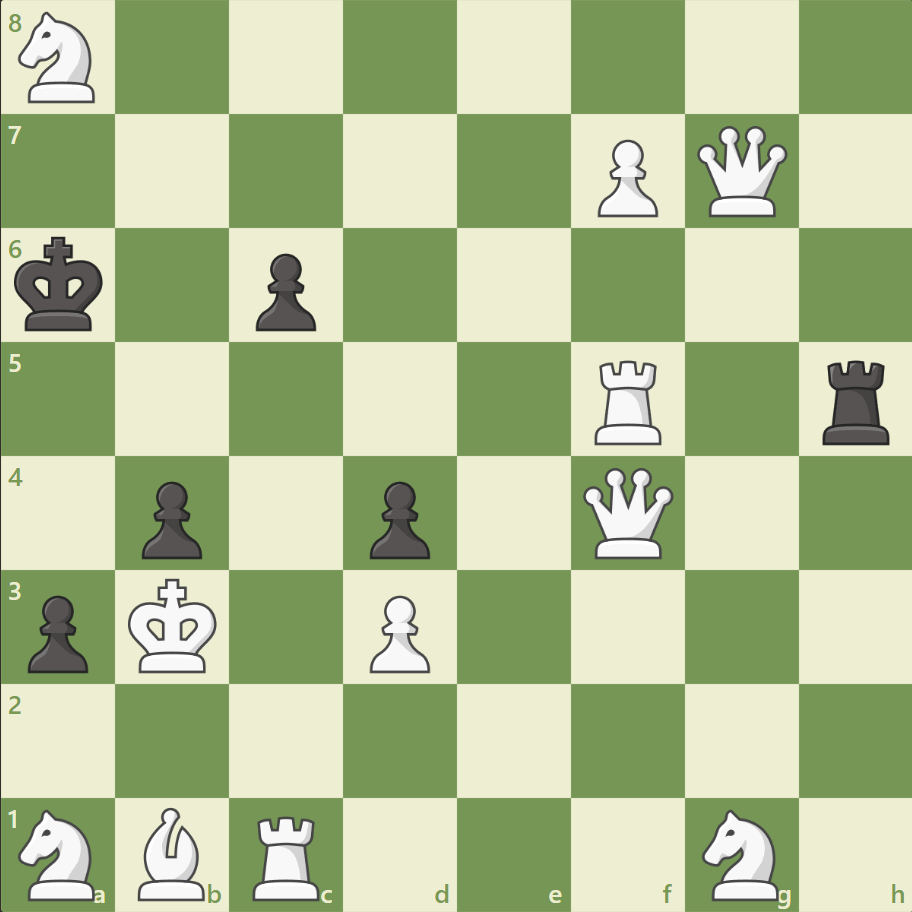B: (131, 801, 215, 904)
K: (124, 571, 224, 679)
N: (11, 7, 108, 110), (11, 802, 108, 904), (692, 802, 789, 904)
P: (588, 132, 662, 223), (361, 586, 435, 677)
Q: (691, 122, 790, 222), (578, 463, 677, 562)
R: (246, 806, 329, 904), (587, 352, 670, 449)
k: (11, 231, 111, 339)
p: (247, 246, 322, 337), (133, 473, 208, 564), (20, 586, 95, 677), (361, 473, 435, 564)
r: (814, 352, 897, 449)
